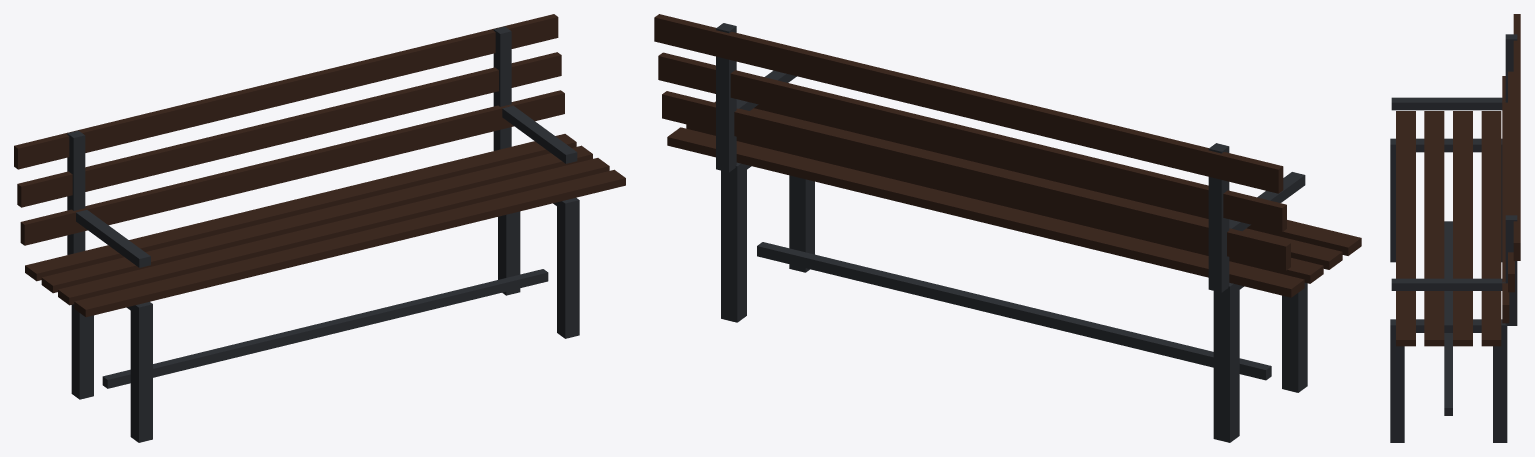
Rendered from Bench.fbx.
The picture shows the model from 3 angles, left to right: view 1: azimuth 30°, elevation 25°; view 2: azimuth 150°, elevation 25°; view 3: azimuth 270°, elevation 25°; orthographic projection. The views are drawn at different scales.
Visible parts, largest first — view 1: Bench_Mesh; view 2: Bench_Mesh; view 3: Bench_Mesh.
Boxes of the visible parts, <box> form: Bench_Mesh: <box>14,14,625,442</box>; Bench_Mesh: <box>654,14,1361,442</box>; Bench_Mesh: <box>1390,14,1520,442</box>.
Bounding box in the file's own units: 190 × 86 × 45.75.
